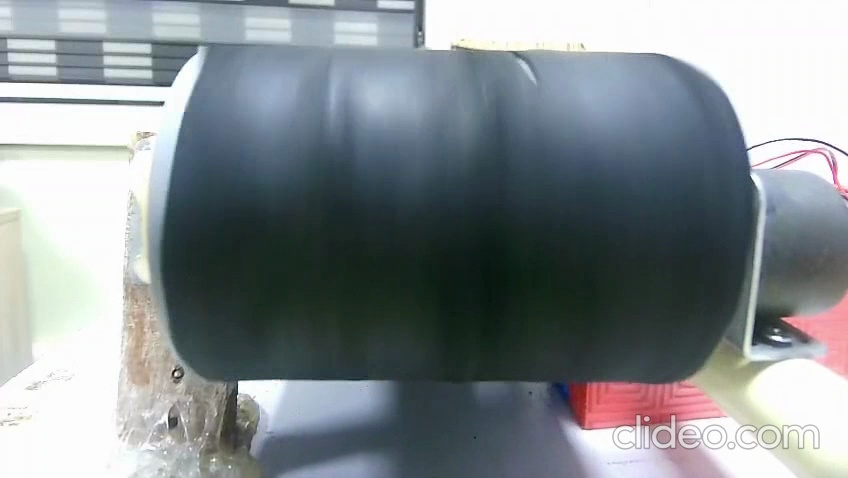tear: (500, 36, 544, 93)
